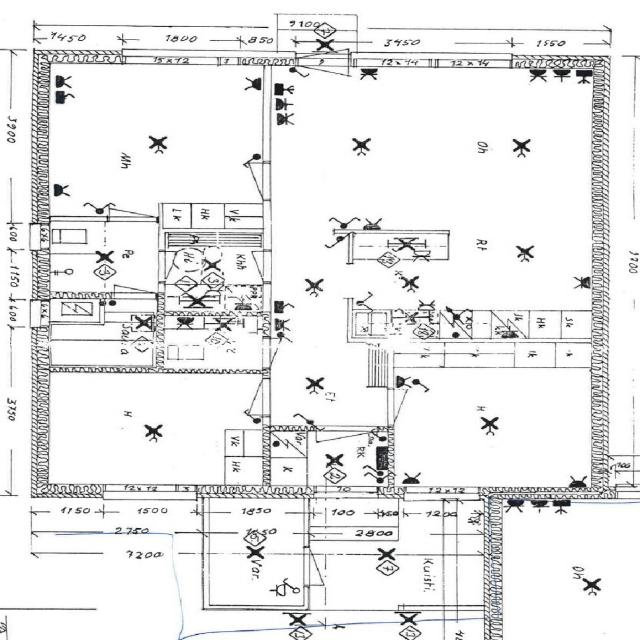door: (316, 426, 376, 472), (297, 50, 348, 99), (297, 15, 348, 63), (303, 547, 364, 585), (209, 378, 270, 415), (210, 163, 270, 199), (388, 389, 444, 425), (109, 184, 156, 221), (219, 252, 270, 282), (262, 338, 312, 367), (158, 252, 207, 281), (114, 264, 155, 298)
